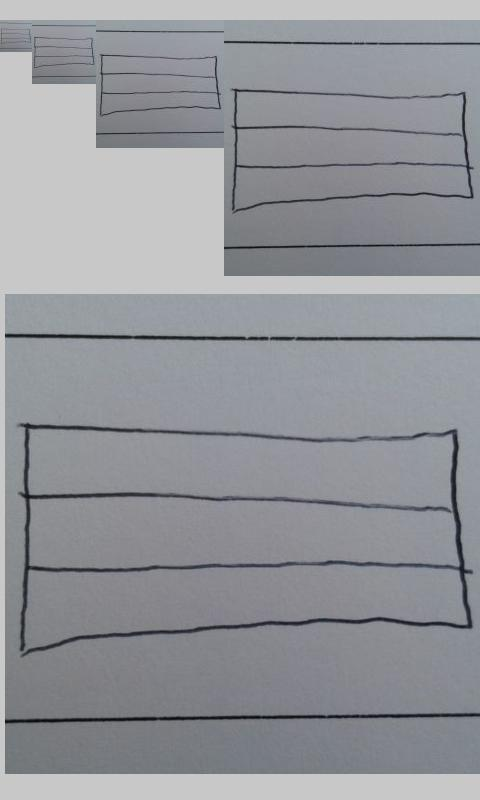list_view: (17, 423, 475, 657), (230, 88, 476, 214), (99, 53, 223, 117), (33, 36, 95, 69), (1, 28, 31, 44)
